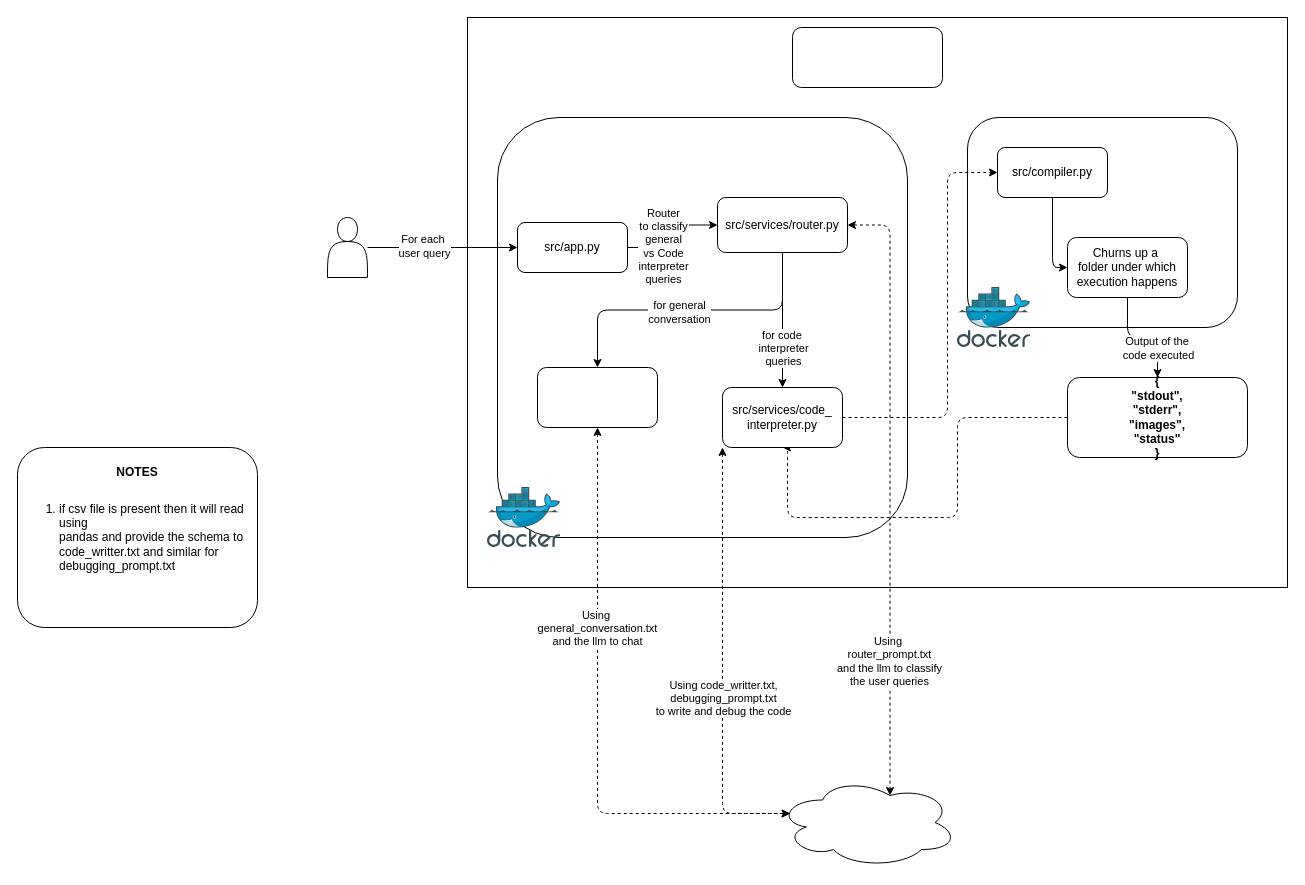
Some shapes in this 1305 by 885 pixel diagram are drawn without their labels. Each missing label, with the box of its shape:
DOCKER-COMPOSE: (792, 26, 942, 88)
GEMINI-FLASH-2.0: (776, 776, 958, 868)
src/services/general_ conversation.py: (536, 366, 658, 428)
